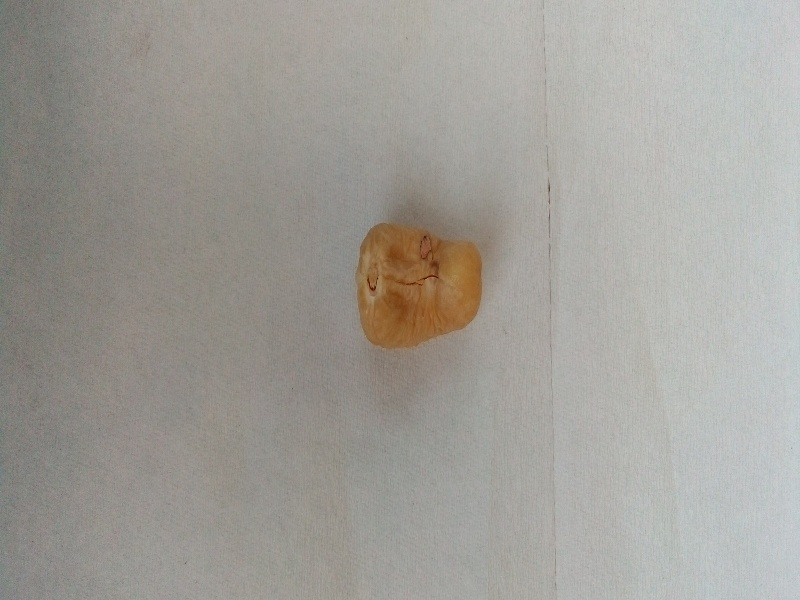cashew: (333, 201, 517, 385)
